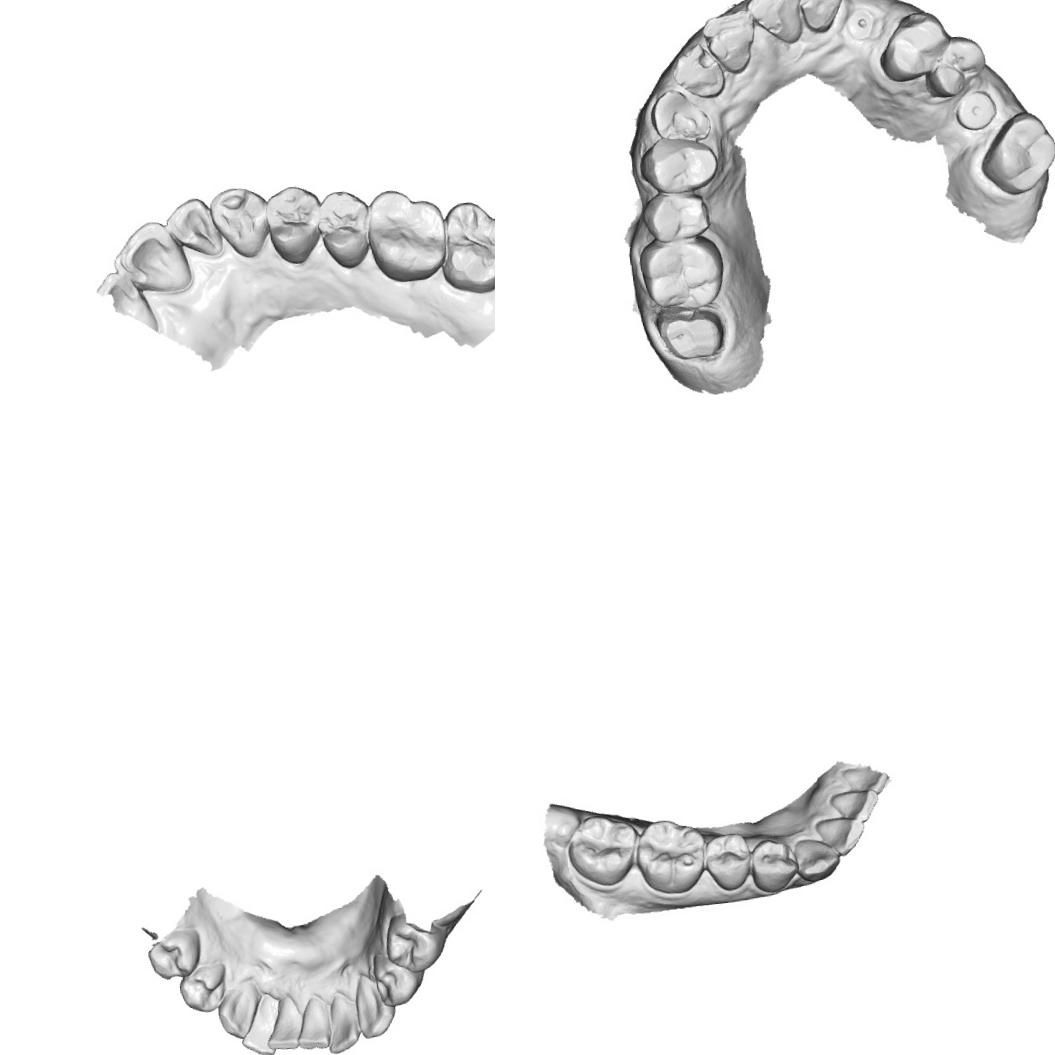canine: (207, 182, 272, 260), (645, 83, 710, 147), (349, 968, 400, 1040), (212, 976, 265, 1042), (791, 834, 842, 884)
crown: (650, 299, 734, 368)
implant: (950, 88, 999, 134), (843, 0, 889, 44)
incisor: (108, 216, 195, 300), (162, 192, 224, 266), (698, 7, 762, 77), (668, 38, 728, 104), (234, 990, 286, 1055), (741, 0, 805, 48), (321, 987, 361, 1055), (261, 994, 305, 1054), (812, 814, 869, 860), (292, 992, 332, 1054), (826, 787, 882, 827), (793, 0, 850, 36), (838, 762, 892, 798)
molar: (364, 184, 450, 288), (634, 231, 730, 316), (974, 106, 1055, 199), (630, 814, 712, 899), (562, 808, 643, 891), (436, 196, 495, 298)
premolar: (874, 7, 954, 86), (634, 131, 721, 198), (262, 182, 326, 269), (380, 905, 451, 976), (316, 187, 374, 273), (920, 32, 990, 100), (639, 185, 713, 246), (368, 944, 429, 1012), (144, 923, 205, 983), (702, 830, 755, 895), (174, 958, 232, 1017), (746, 834, 802, 895)
